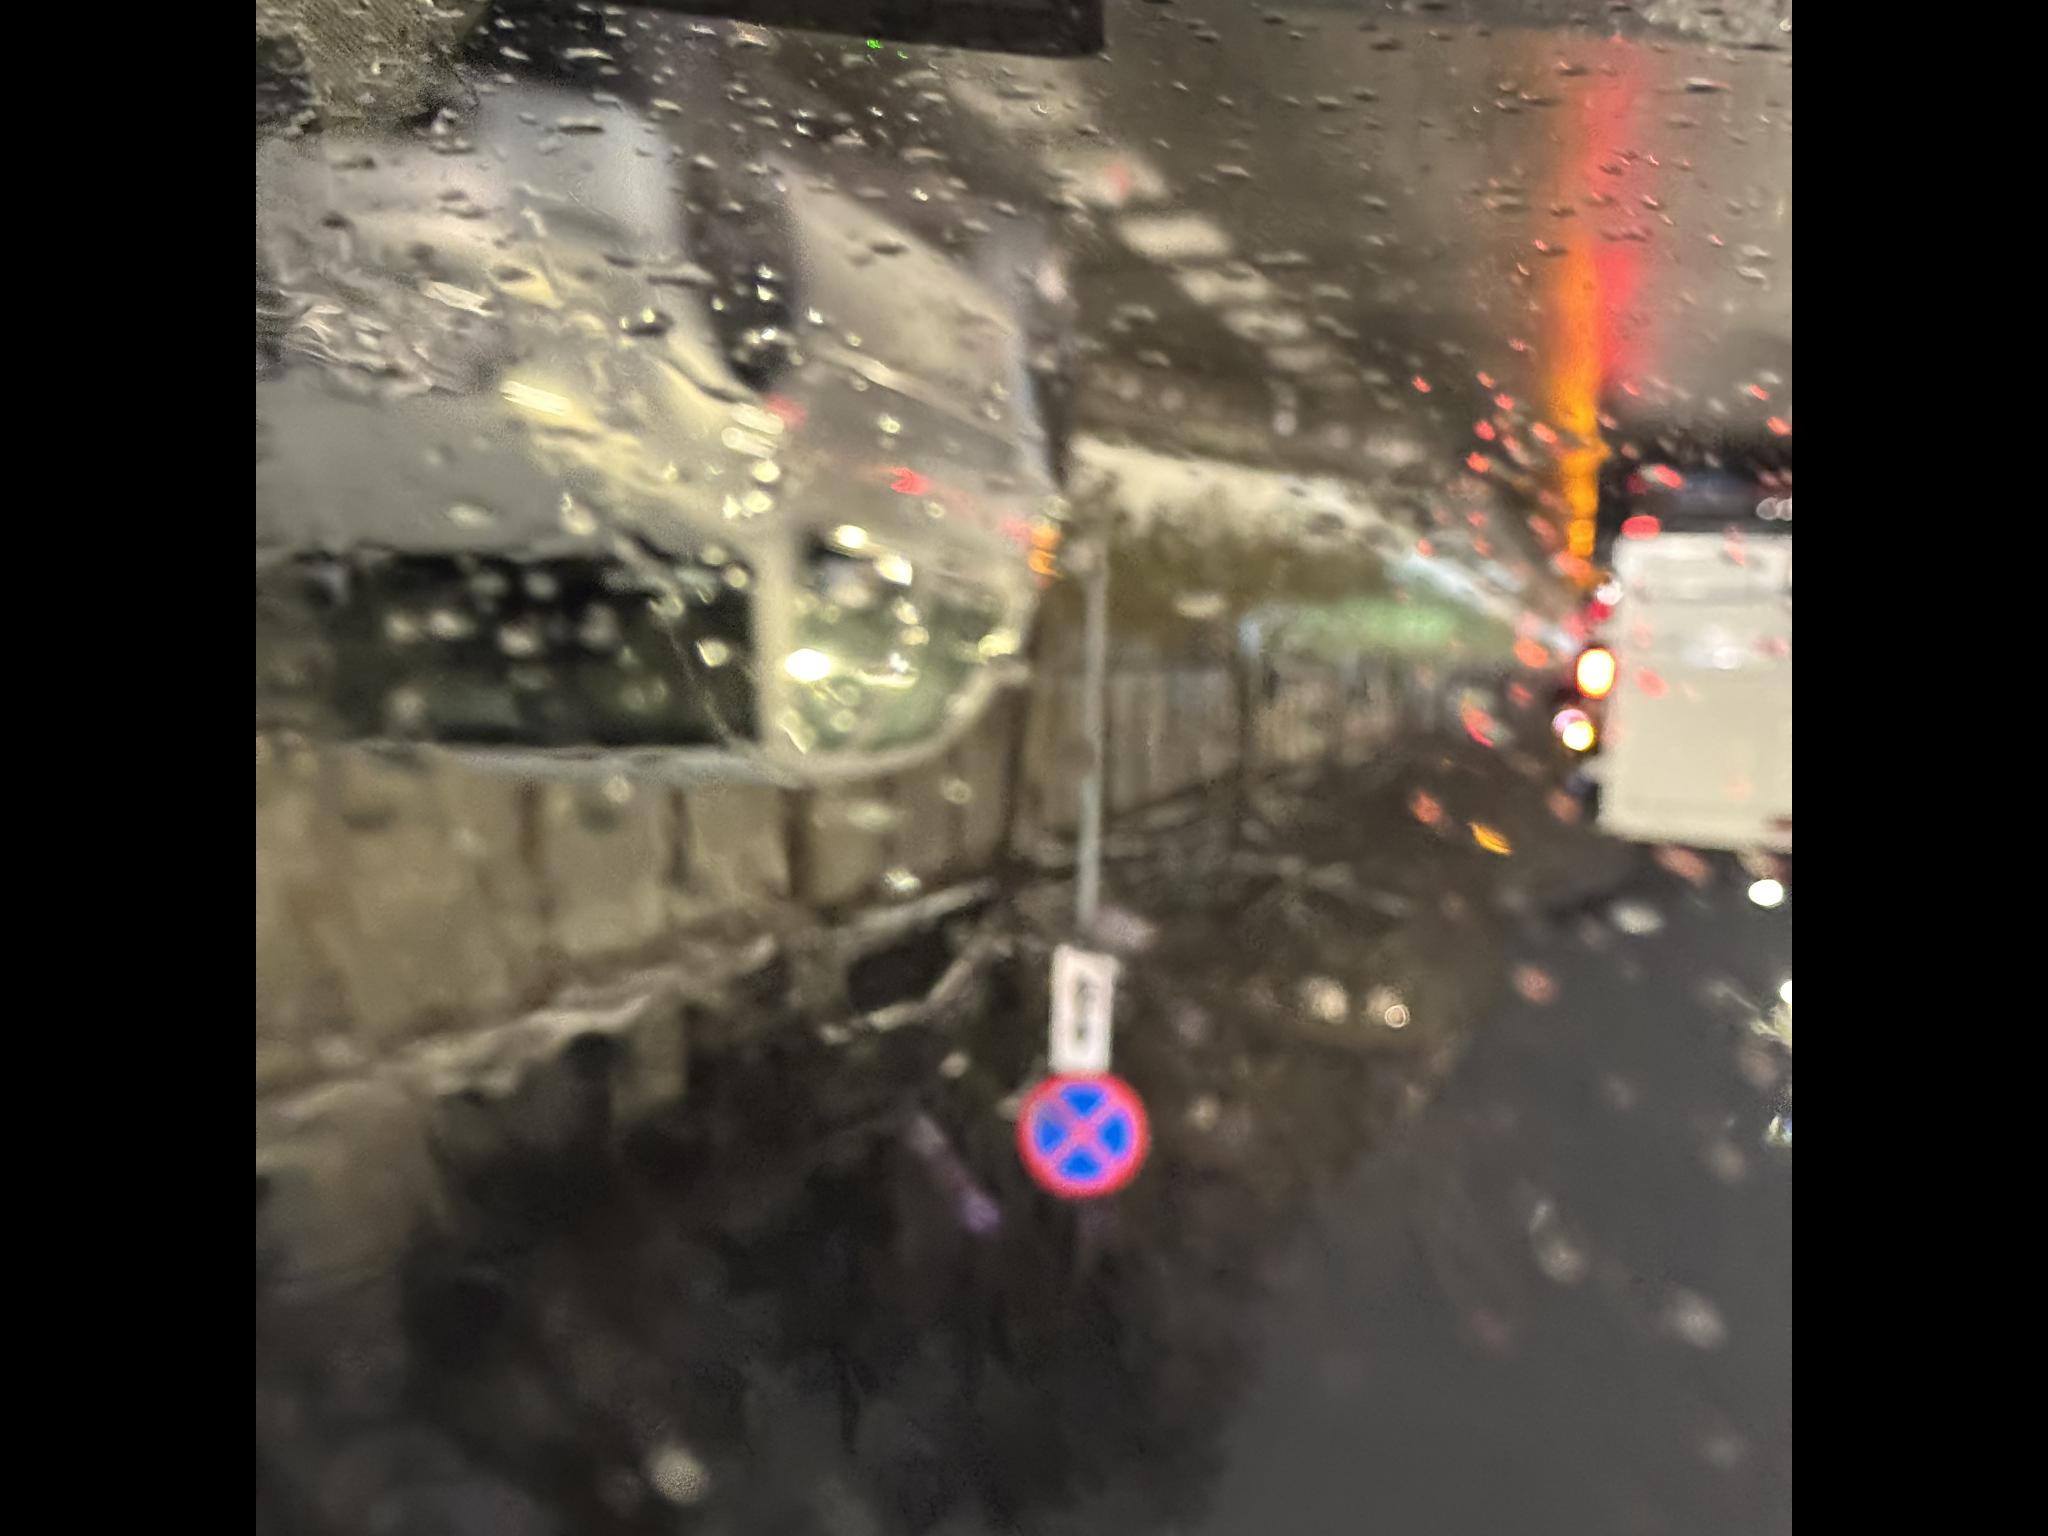other: (974, 1046, 1104, 1114)
prohibitory: (848, 1014, 976, 1148)
